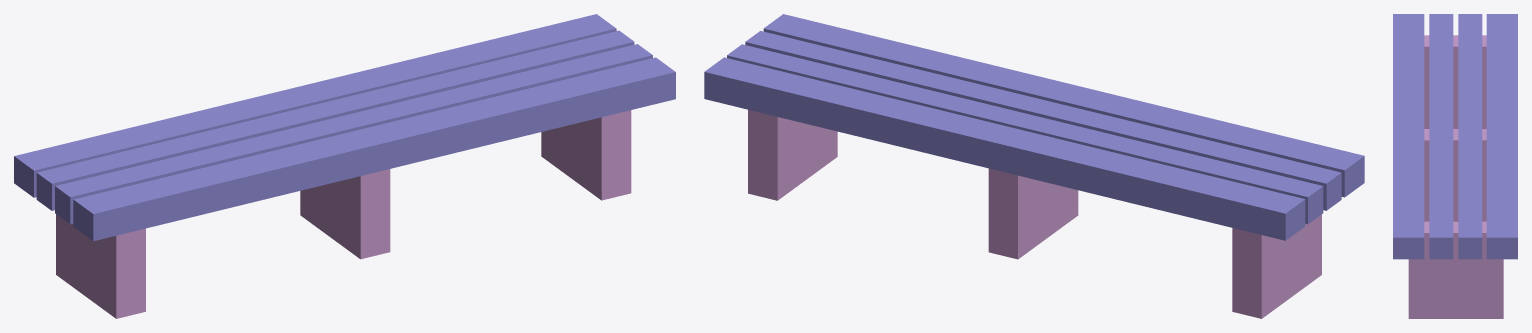
The model's file is stationBench.obj.
3 renders of one model, left to right at view 1: azimuth 30°, elevation 25°; view 2: azimuth 150°, elevation 25°; view 3: azimuth 270°, elevation 25°, orthographic. The views are drawn at different scales.
Visible parts, largest first — view 1: Cube.003_Cube.004, Cube.004_Cube.005, Cube.006_Cube.007, Cube.005_Cube.006, Cube_Cube.001, Cube.001_Cube.002, Cube.002_Cube.003; view 2: Cube.004_Cube.005, Cube.003_Cube.004, Cube.005_Cube.006, Cube.006_Cube.007, Cube_Cube.001, Cube.001_Cube.002, Cube.002_Cube.003; view 3: Cube.003_Cube.004, Cube.004_Cube.005, Cube.002_Cube.003, Cube.005_Cube.006, Cube.006_Cube.007, Cube_Cube.001, Cube.001_Cube.002.
Part boxes in pixels (bbox=[...]): Cube.003_Cube.004: bbox=[73, 57, 675, 241]; Cube.004_Cube.005: bbox=[14, 14, 616, 197]; Cube.006_Cube.007: bbox=[36, 30, 634, 210]; Cube.005_Cube.006: bbox=[55, 44, 652, 224]; Cube_Cube.001: bbox=[56, 214, 145, 318]; Cube.001_Cube.002: bbox=[300, 169, 390, 259]; Cube.002_Cube.003: bbox=[541, 110, 631, 200]; Cube.004_Cube.005: bbox=[704, 57, 1305, 240]; Cube.003_Cube.004: bbox=[763, 14, 1364, 197]; Cube.005_Cube.006: bbox=[745, 31, 1341, 210]; Cube.006_Cube.007: bbox=[727, 44, 1323, 224]; Cube_Cube.001: bbox=[1232, 214, 1321, 318]; Cube.001_Cube.002: bbox=[988, 168, 1078, 259]; Cube.002_Cube.003: bbox=[748, 109, 837, 200]; Cube.003_Cube.004: bbox=[1393, 14, 1424, 259]; Cube.004_Cube.005: bbox=[1486, 14, 1517, 259]; Cube.002_Cube.003: bbox=[1408, 221, 1503, 318]; Cube.005_Cube.006: bbox=[1429, 14, 1453, 259]; Cube.006_Cube.007: bbox=[1458, 14, 1482, 259]; Cube_Cube.001: bbox=[1424, 35, 1486, 128]; Cube.001_Cube.002: bbox=[1424, 129, 1486, 221].
Bounding box in the file's own units: 6.03 × 1.19 × 1.42.
